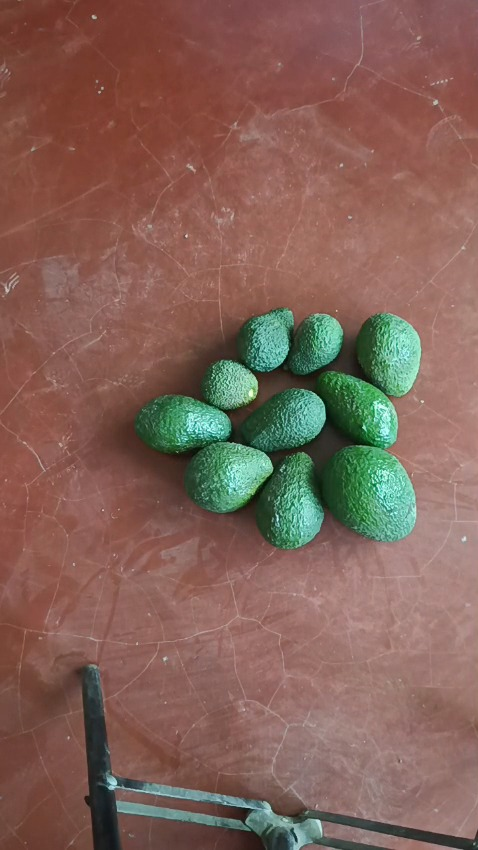Primera: (319, 443, 418, 540)
Segunda: (254, 453, 324, 547), (185, 441, 274, 513), (314, 370, 397, 447), (134, 395, 231, 454), (239, 388, 325, 453), (354, 312, 421, 395)
Tercera: (236, 307, 295, 373), (285, 313, 344, 377), (199, 358, 259, 411)
